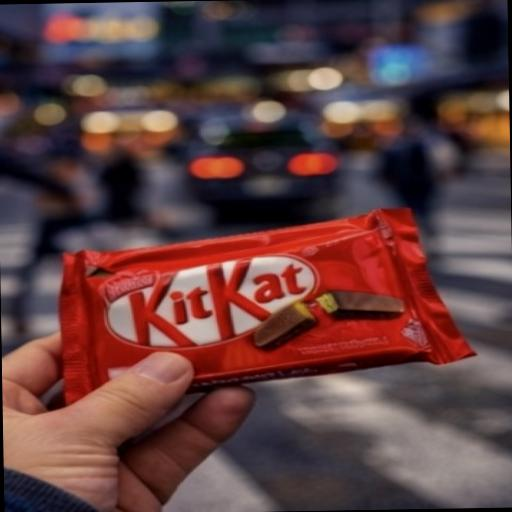kitkat: (3, 192, 512, 481)
